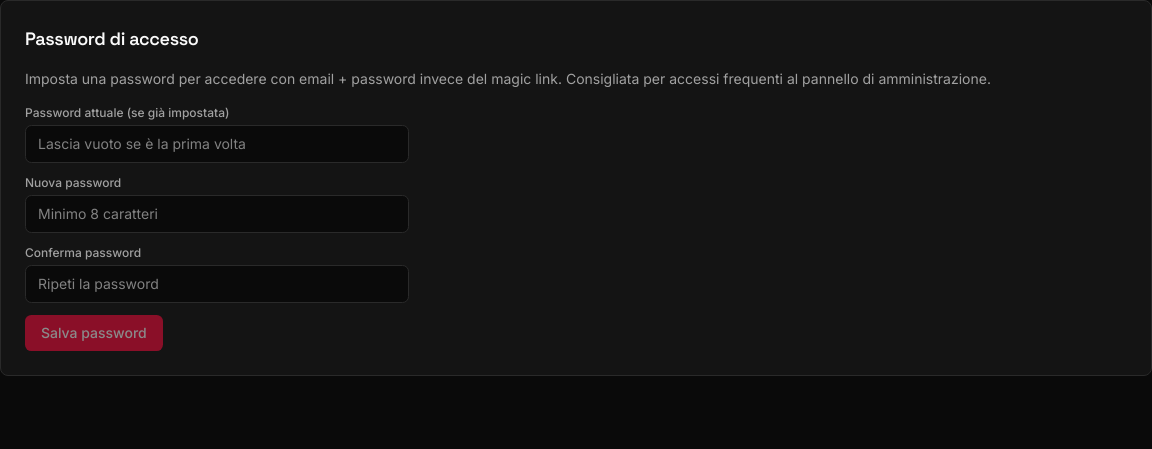
PasswordSetup › shows error when passwords don't match
The image size is (1152, 449).
In the password field with placeholder "Minimo 8 caratteri": x=217, y=214 [25,195,409,233], type "password123"
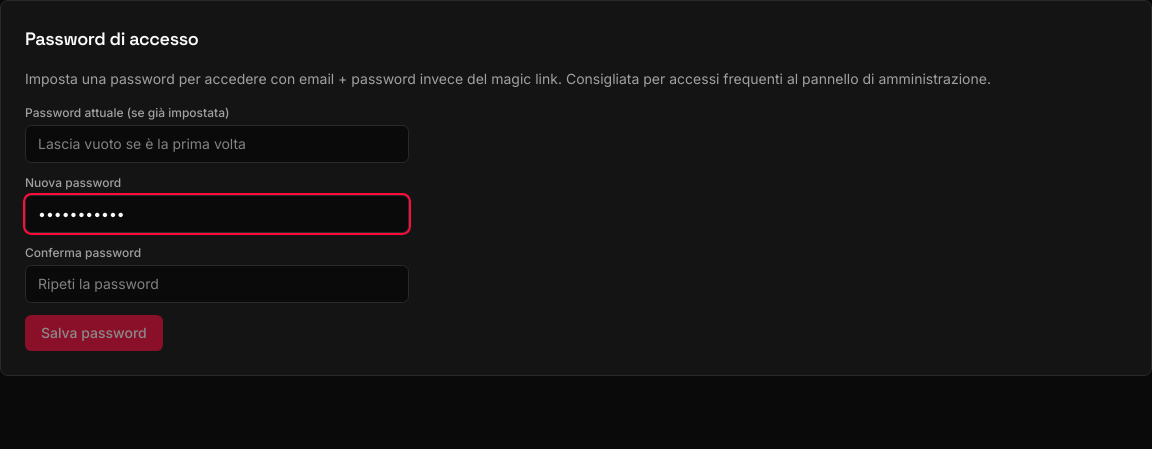
In the password field with placeholder "Ripeti la password": x=217, y=284 [25,265,409,303], type "different456"
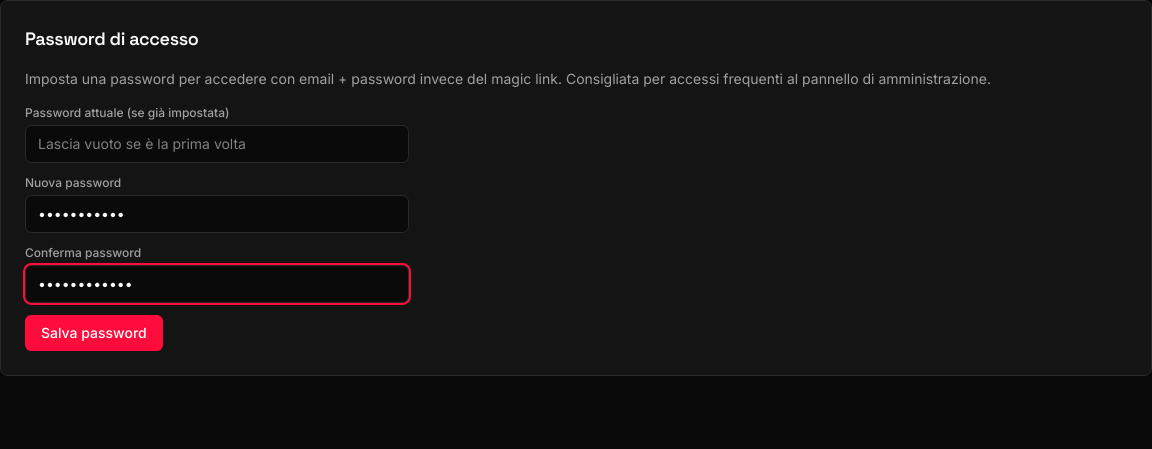
Click the button "Salva password": x=94, y=333 [25,315,163,351]
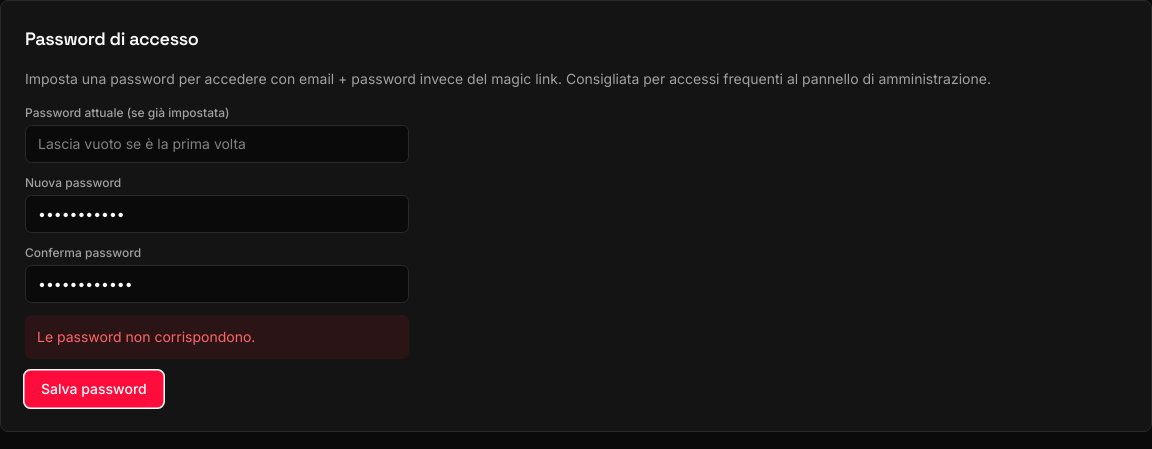
Check: the text "Le password non corrispondono." is shown, box [25,315,409,359]
